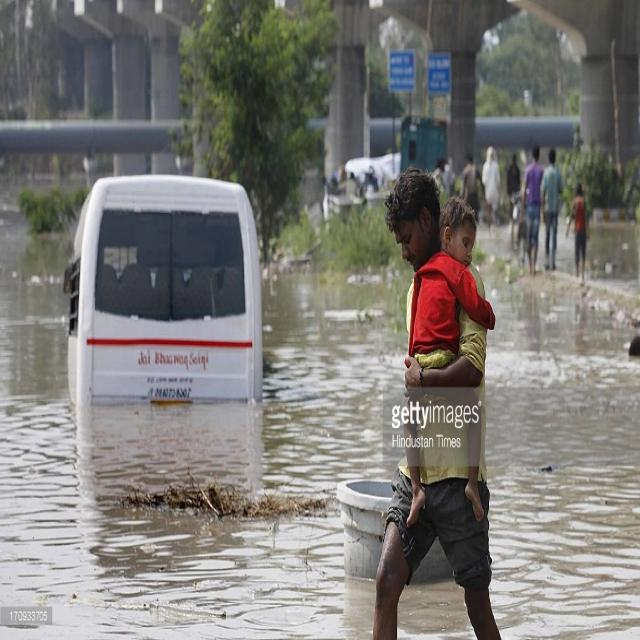body: (368, 159, 514, 639), (402, 194, 497, 531), (519, 143, 545, 277), (539, 145, 564, 273), (564, 180, 592, 286), (480, 142, 503, 242), (460, 150, 487, 227), (503, 151, 522, 239), (328, 160, 376, 194), (433, 152, 455, 193)
